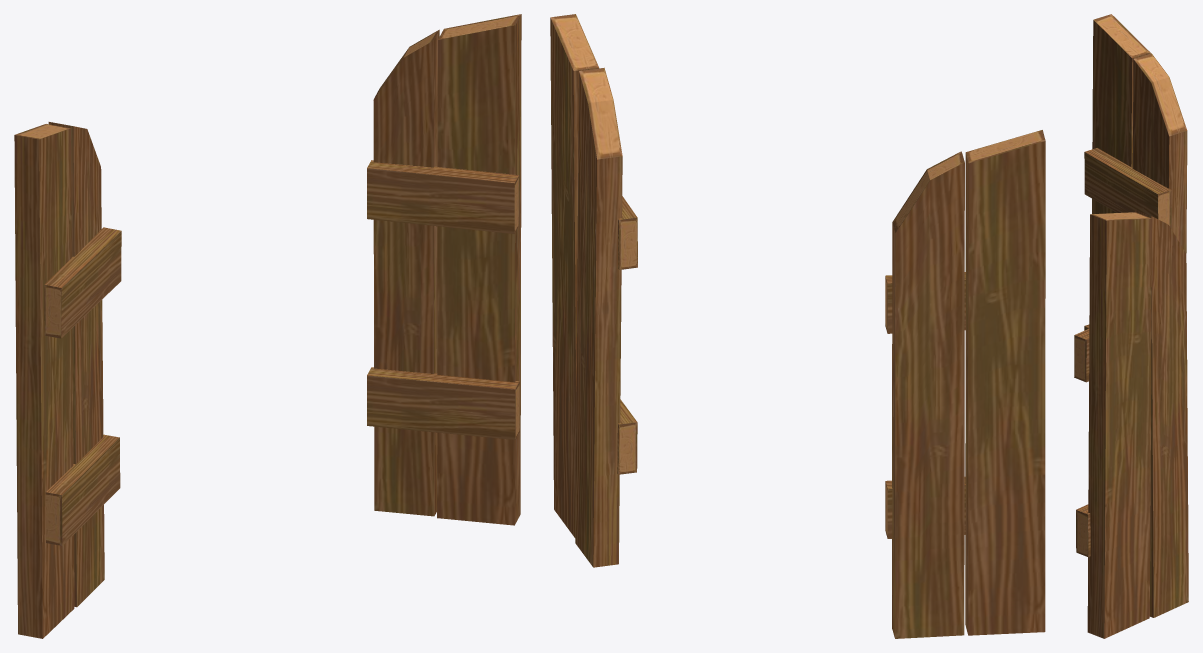
File: window-qm-windowshuttersthinroundopen.glb
3 renders of one model, left to right at view 1: azimuth 30°, elevation 25°; view 2: azimuth 150°, elevation 25°; view 3: azimuth 270°, elevation 25°, orthographic. The views are drawn at different scales.
Parts seen in each view (by area): view 1: Cube_183; view 2: Cube_183; view 3: Cube_183.
Boxes of the visible parts, x1,y1,x2,y2 form: Cube_183: (14, 14, 521, 638); Cube_183: (550, 14, 1045, 638); Cube_183: (1074, 14, 1188, 638).
Bounding box in the file's own units: 1.61 × 1.52 × 0.3765.
Materials: 1 (1 with a texture image).
